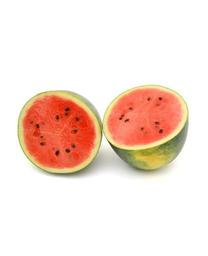watermelon: (17, 83, 188, 176)
